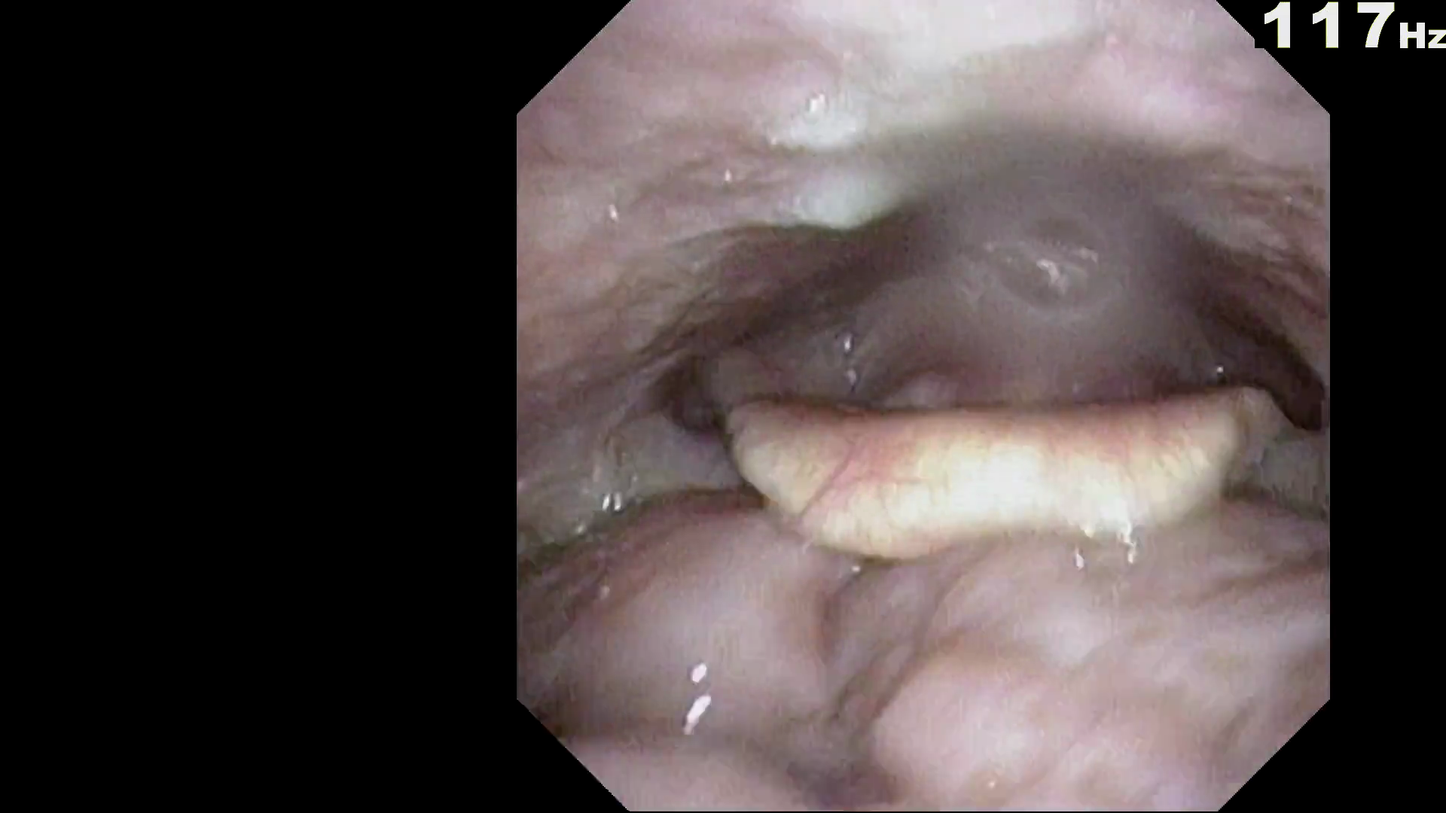epiglottis: (692, 407, 1279, 643)
